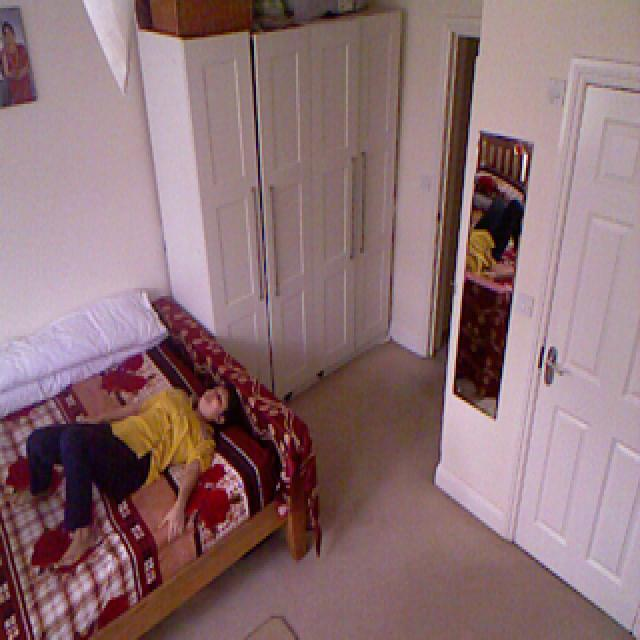lying: (8, 378, 242, 570)
